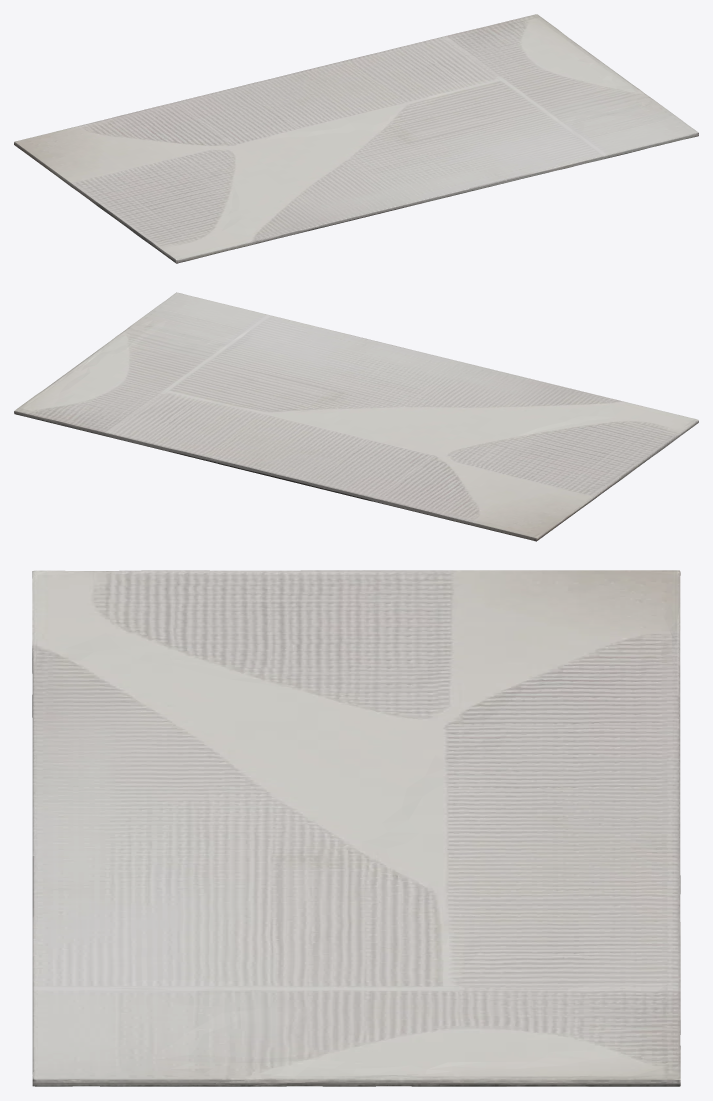
3 views of the same model, one above another, from view 1: azimuth 30°, elevation 25°; view 2: azimuth 150°, elevation 25°; view 3: azimuth 270°, elevation 25° (orthographic). The views are drawn at different scales.
Visible parts, largest first — view 1: world; view 2: world; view 3: world.
Boxes of the visible parts, <box> form: world: <box>14,14,698,263</box>; world: <box>14,292,698,541</box>; world: <box>32,570,680,1086</box>.
Size of the model in its own units: 1 by 0.00733 by 0.5374.
1 material, 1 textured.
